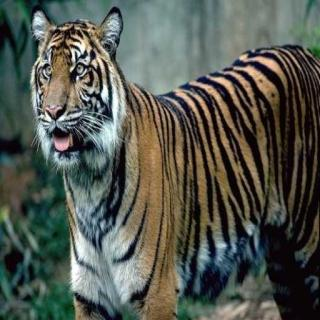Tiger: (12, 0, 320, 320)
